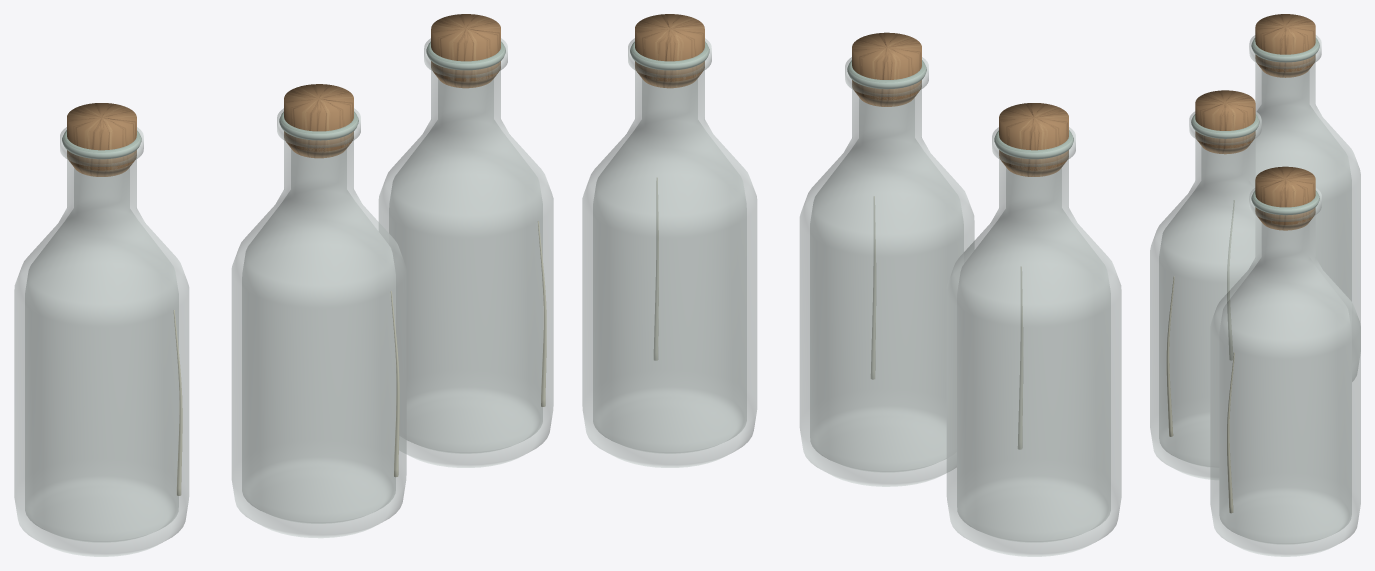
Rendered from props_p6__p6_bottles.glb.
3 renders of one model, left to right at view 1: azimuth 30°, elevation 25°; view 2: azimuth 150°, elevation 25°; view 3: azimuth 270°, elevation 25°, orthographic. The views are drawn at different scales.
Parts seen in each view (by area): view 1: hollow_glass (×3), cork (×3), bottle_rim (×3), glass_highlight (×3); view 2: hollow_glass (×3), cork (×3), bottle_rim (×3); view 3: hollow_glass (×3), cork (×3), bottle_rim (×3), glass_highlight (×3).
Boxes of the visible parts, x1=… form: hollow_glass (×3): x1=14, y1=38, x2=553, y2=556; cork (×3): x1=67, y1=14, x2=500, y2=176; bottle_rim (×3): x1=62, y1=41, x2=505, y2=159; glass_highlight (×3): x1=173, y1=221, x2=546, y2=495; hollow_glass (×3): x1=582, y1=38, x2=1121, y2=556; cork (×3): x1=635, y1=14, x2=1068, y2=176; bottle_rim (×3): x1=630, y1=41, x2=1073, y2=159; hollow_glass (×3): x1=1150, y1=35, x2=1360, y2=556; cork (×3): x1=1195, y1=14, x2=1315, y2=230; bottle_rim (×3): x1=1191, y1=38, x2=1319, y2=215; glass_highlight (×3): x1=1166, y1=200, x2=1234, y2=513.
Size of the model in its own units: 0.17 by 0.129 by 0.07.
Materials: 12 (3 with a texture image).
